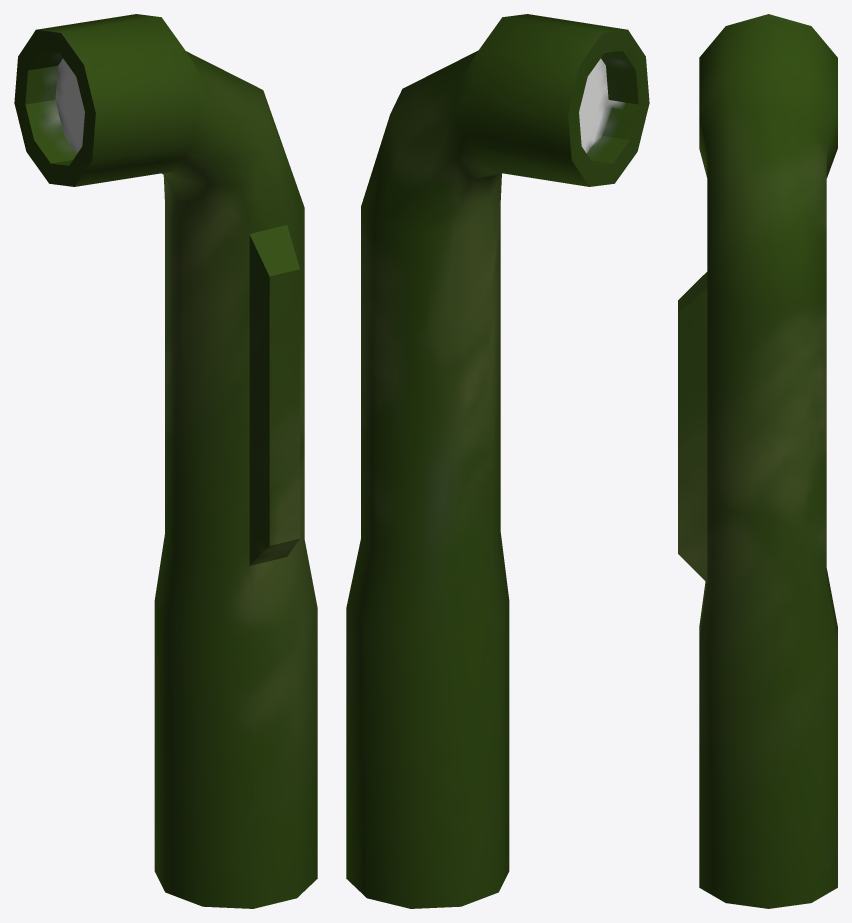
The model's file is lampe torche.fbx.
3 renders of one model, left to right at view 1: azimuth 30°, elevation 25°; view 2: azimuth 150°, elevation 25°; view 3: azimuth 270°, elevation 25°, orthographic. The views are drawn at different scales.
Visible parts, largest first — view 1: lampe militaire; view 2: lampe militaire; view 3: lampe militaire.
Part boxes in pixels (x1=…): lampe militaire: x1=14, y1=14, x2=317, y2=908; lampe militaire: x1=346, y1=14, x2=649, y2=908; lampe militaire: x1=678, y1=14, x2=837, y2=908.
Bounding box in the file's own units: 4.27 × 14.02 × 2.58.
